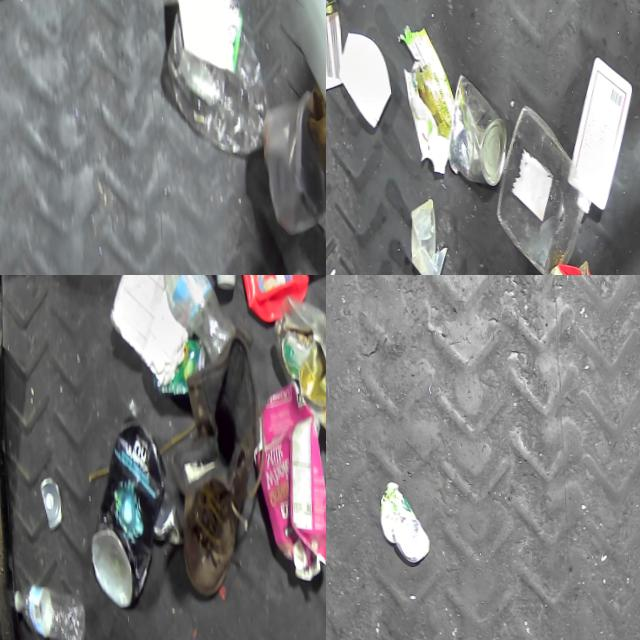can: (439, 72, 504, 185), (295, 333, 326, 443)
milk_jug: (555, 55, 635, 216)
non_white_jug: (232, 275, 309, 339)
plastic_bottle: (162, 0, 264, 155), (141, 275, 236, 376), (0, 577, 83, 640)
